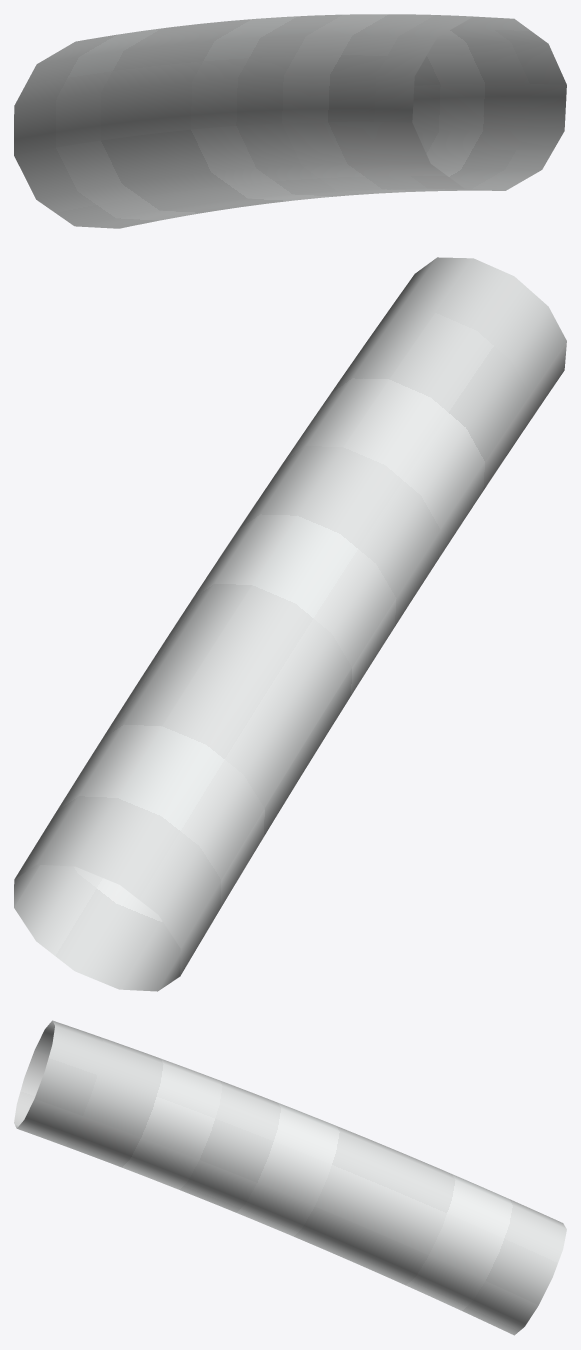
Rendered from luminairearm_caltrans12ftdouble_c9.obj.
3 renders of one model, top to bottom at view 1: azimuth 30°, elevation 25°; view 2: azimuth 150°, elevation 25°; view 3: azimuth 270°, elevation 25°, orthographic. The views are drawn at different scales.
Parts seen in each view (by area): view 1: luminairearm_caltrans12ftdouble_c9; view 2: luminairearm_caltrans12ftdouble_c9; view 3: luminairearm_caltrans12ftdouble_c9.
Boxes of the visible parts, bbox=[...] form: luminairearm_caltrans12ftdouble_c9: bbox=[14, 14, 566, 228]; luminairearm_caltrans12ftdouble_c9: bbox=[14, 257, 566, 991]; luminairearm_caltrans12ftdouble_c9: bbox=[14, 1020, 566, 1335].
Size of the model in its own units: 0.245 by 0.6633 by 1.1.
